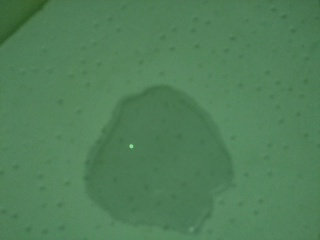Water_detected: (100, 107, 204, 207)
